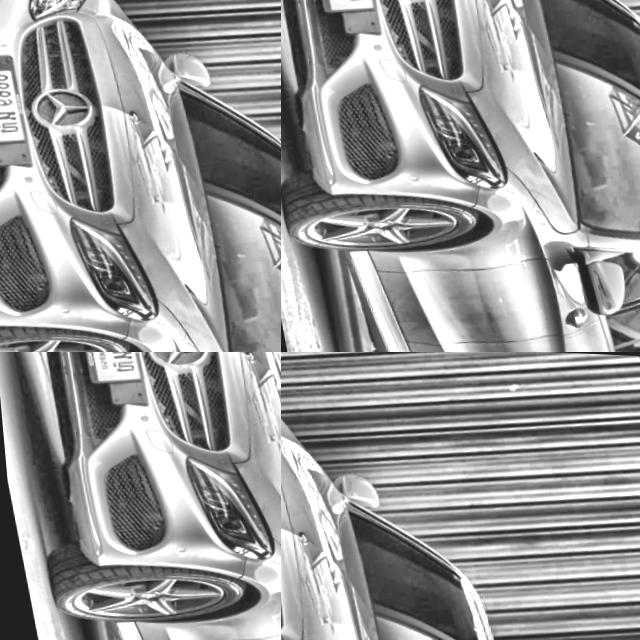license-plate: (0, 450, 67, 562)
